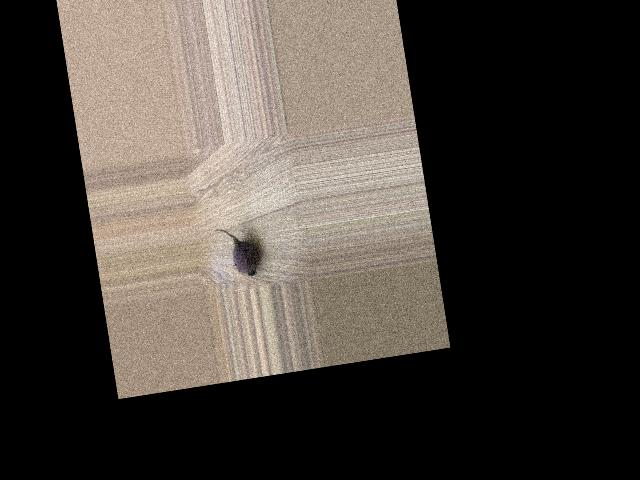beet: (213, 222, 260, 279)
